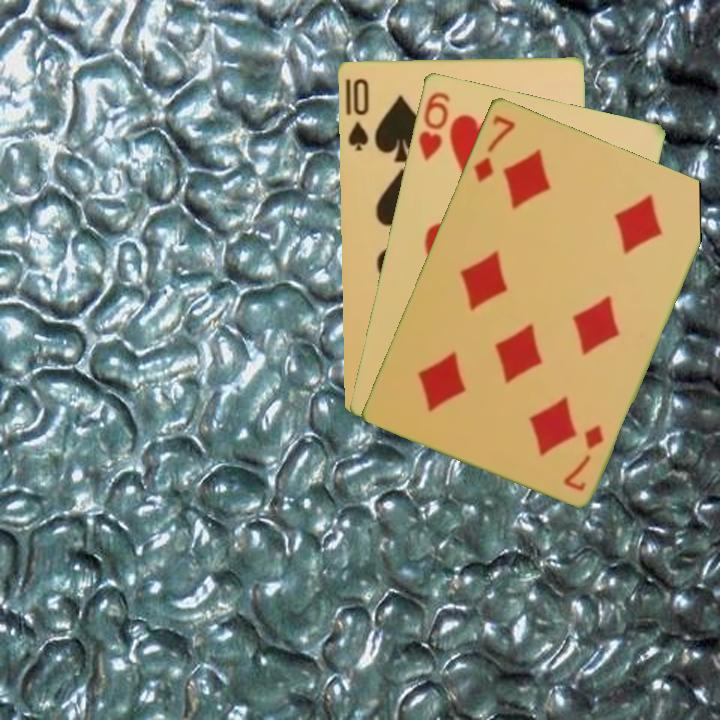10s: (344, 74, 371, 154)
6h: (414, 87, 452, 163)
7d: (470, 111, 518, 185), (560, 420, 606, 494)
